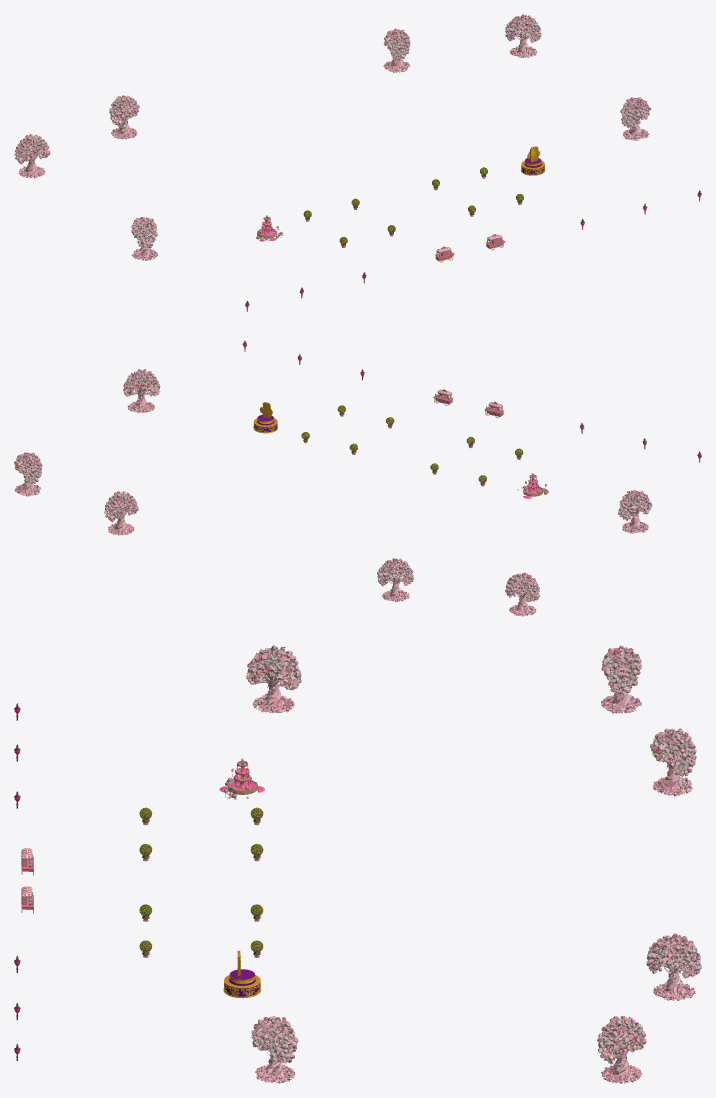
The model's file is CR-Candy-Garden.glb.
The picture shows the model from 3 angles, top to bottom: view 1: azimuth 30°, elevation 25°; view 2: azimuth 150°, elevation 25°; view 3: azimuth 270°, elevation 25°; orthographic projection. The views are drawn at different scales.
Bounding box in the file's own units: 134 × 9.37 × 99.04.
Materials: 6 (6 with a texture image).
